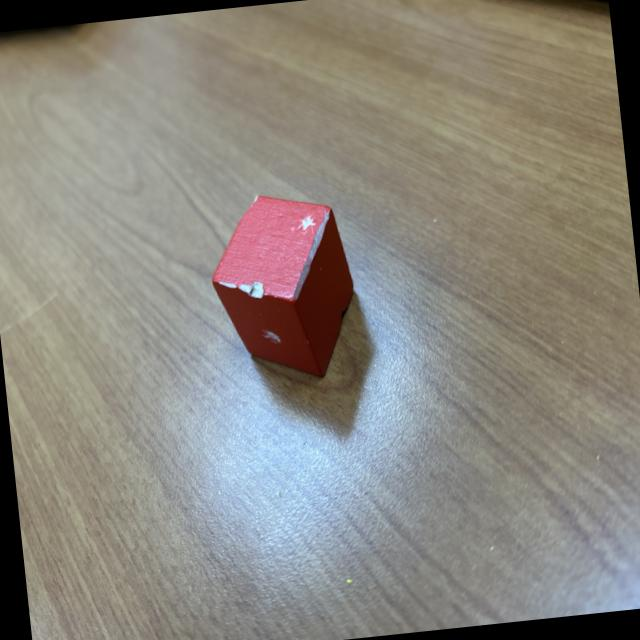broken: (203, 185, 364, 389)
